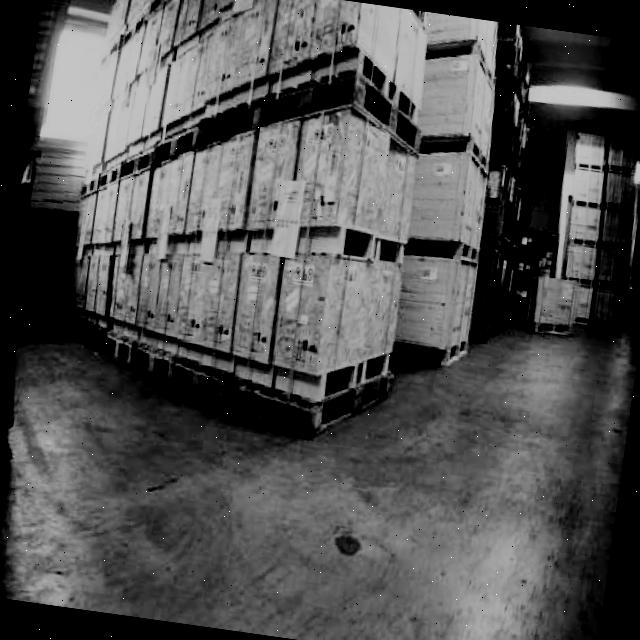ground: (0, 227, 640, 640)
pallet: (49, 0, 550, 463), (378, 12, 514, 370), (57, 307, 396, 448), (453, 22, 552, 345), (548, 128, 640, 330), (0, 166, 49, 469), (522, 272, 581, 337), (0, 250, 24, 409)
